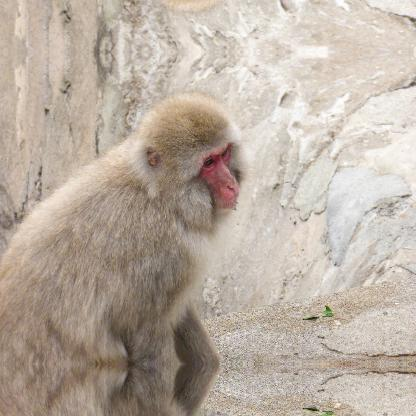Monkey: (0, 87, 258, 362)
